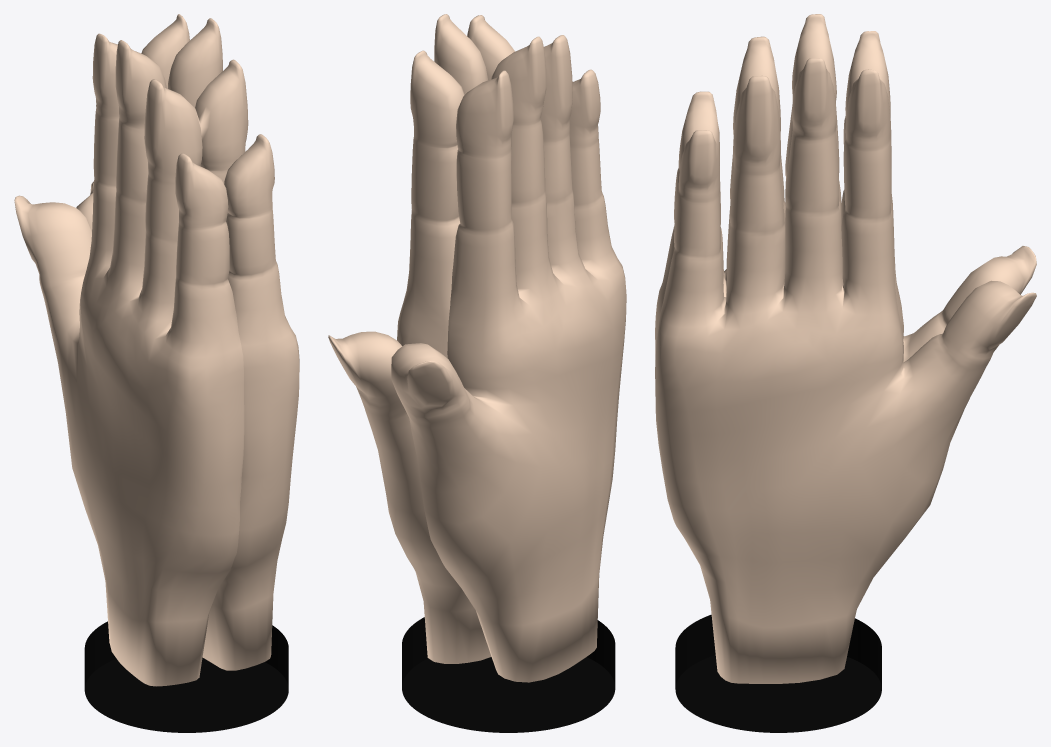
Rendered from hand.glb.
3 views of the same model, side by side, from view 1: azimuth 30°, elevation 25°; view 2: azimuth 150°, elevation 25°; view 3: azimuth 270°, elevation 25° (orthographic). The views are drawn at different scales.
Parts seen in each view (by area): view 1: Cube, Circle; view 2: Cube, Circle; view 3: Cube, Circle.
Part boxes in pixels (x1,y1,x2,y2): Cube: (14, 14, 299, 686); Circle: (84, 621, 288, 732); Cube: (328, 14, 626, 682); Circle: (402, 617, 615, 732); Cube: (655, 14, 1036, 683); Circle: (675, 614, 881, 732).
Bounding box in the file's own units: 2 × 6.98 × 3.7.
